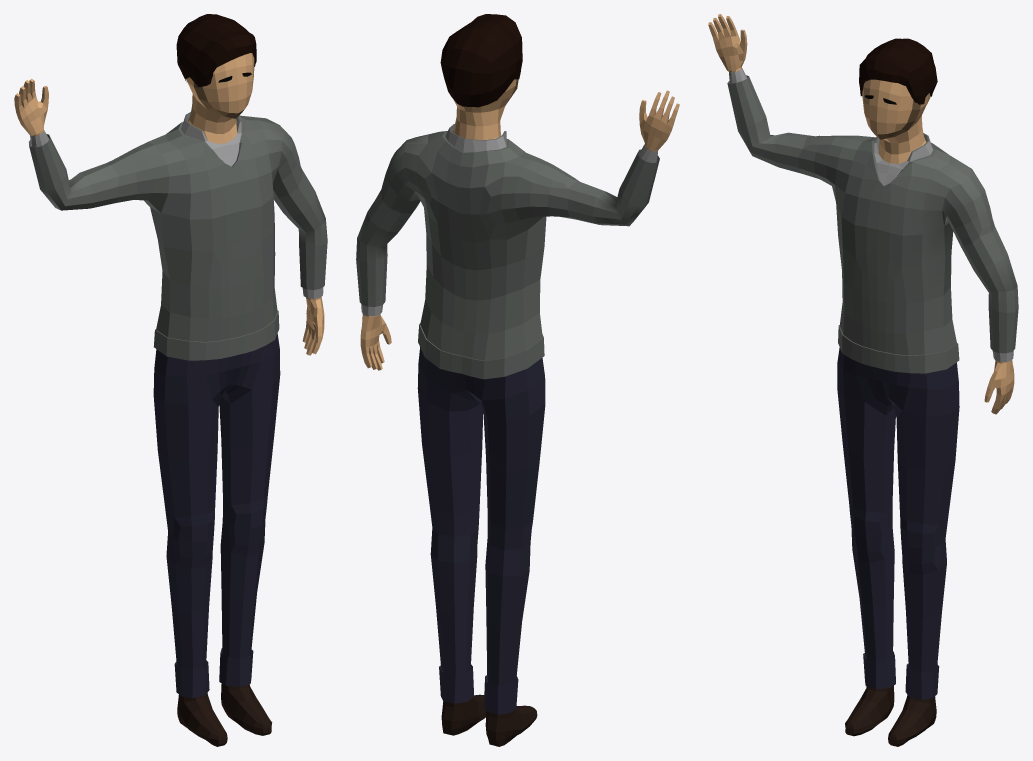
Rendered from ManCasual3.obj.
3 views of the same model, side by side, from view 1: azimuth 30°, elevation 25°; view 2: azimuth 150°, elevation 25°; view 3: azimuth 330°, elevation 25° (orthographic). The views are drawn at different scales.
Visible parts, largest first — view 1: ManCasual3; view 2: ManCasual3; view 3: ManCasual3.
Part boxes in pixels (left/top/right/bottom): ManCasual3: left=14, top=14, right=327, bottom=746; ManCasual3: left=356, top=14, right=679, bottom=746; ManCasual3: left=708, top=14, right=1018, bottom=746.
Bounding box in the file's own units: 34.72 × 73.97 × 9.9.
1 material, 1 textured.
